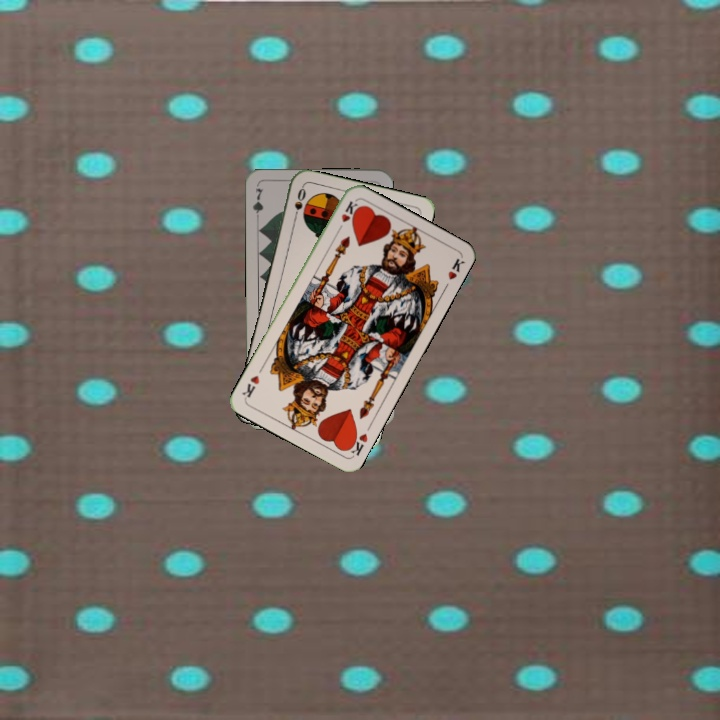G7: (249, 184, 266, 224)
HK: (333, 197, 360, 235), (342, 428, 370, 458)
SO: (290, 183, 308, 223)
